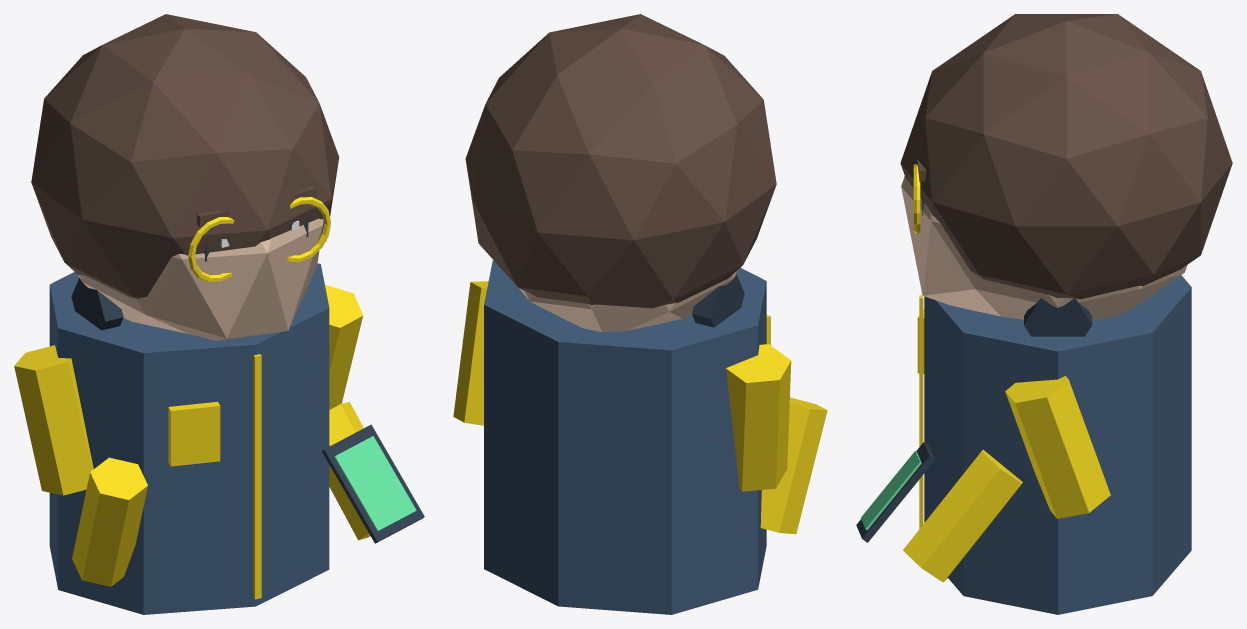
The model's file is arjun.glb.
3 views of the same model, side by side, from view 1: azimuth 30°, elevation 25°; view 2: azimuth 150°, elevation 25°; view 3: azimuth 270°, elevation 25° (orthographic).
Visible parts, largest first — view 1: Arjun_Torso, Arjun_HairCap, Arjun_Head, LeftUpperArm, LeftForearm, SmartphoneScreen, AABadgeCrest, RightUpperArm, Smartphone, JacketZipper, RightForearm, HeadphoneCup_L (+2 smaller); view 2: Arjun_Torso, Arjun_HairCap, LeftUpperArm, LeftForearm, Arjun_Head, RightUpperArm, HeadphoneCup_L; view 3: Arjun_HairCap, Arjun_Torso, RightUpperArm, Arjun_Head, RightForearm, HeadphoneCup_R, Smartphone, SmartphoneScreen, JacketZipper, GlassesRim_R.
Boxes of the visible parts, x1,y1,x2,y2 form: Arjun_Torso: (49,263,329,614); Arjun_HairCap: (31,14,339,298); Arjun_Head: (78,218,323,340); LeftUpperArm: (14,345,93,495); LeftForearm: (72,457,147,586); SmartphoneScreen: (334,436,416,531); AABadgeCrest: (168,401,220,466); RightUpperArm: (325,284,363,409); Smartphone: (322,424,424,543); JacketZipper: (253,354,261,599); RightForearm: (329,401,370,540); HeadphoneCup_L: (71,278,123,330); Arjun_Torso: (484,260,766,614); Arjun_HairCap: (465,14,776,308); LeftUpperArm: (726,344,791,491); LeftForearm: (760,397,827,534); Arjun_Head: (518,268,739,332); RightUpperArm: (453,281,488,425); HeadphoneCup_L: (692,274,744,327); Arjun_HairCap: (900,14,1232,299); Arjun_Torso: (924,275,1191,614); RightUpperArm: (1005,376,1110,518); Arjun_Head: (901,176,1187,319); RightForearm: (903,449,1022,582); HeadphoneCup_R: (1024,298,1092,336); Smartphone: (856,442,934,542); SmartphoneScreen: (861,451,921,530); JacketZipper: (919,295,923,528); GlassesRim_R: (913,164,920,233).
Bounding box in the file's own units: 0.8781 × 1.37 × 0.881.
